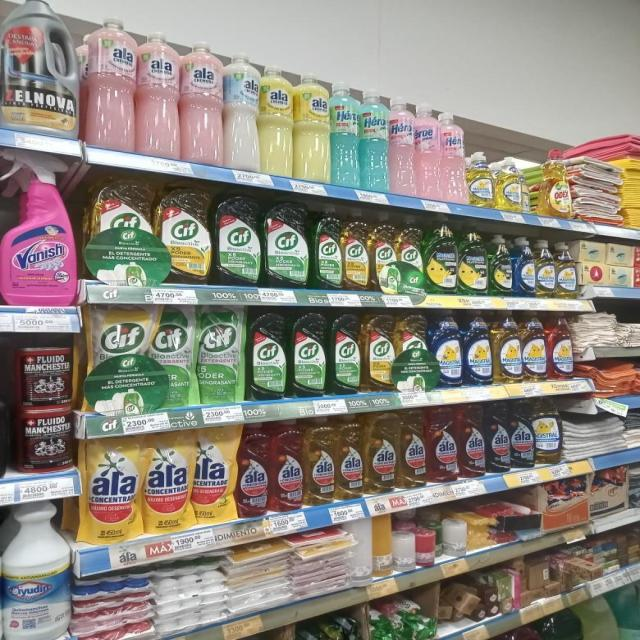ala_conc_amarillo: (304, 415, 335, 506), (365, 410, 397, 494), (336, 412, 364, 500), (398, 408, 426, 489)
ala_conc_azul: (486, 401, 510, 474), (510, 399, 534, 469)
ala_conc_rojo: (236, 420, 268, 518), (270, 418, 303, 512), (427, 404, 458, 484), (458, 402, 485, 479)
ala_crem_amarillo: (294, 72, 330, 182), (260, 66, 292, 175)
ala_crem_blanco: (224, 49, 258, 172)
ala_crem_rosado: (136, 31, 179, 159), (181, 39, 223, 164)
ala_sachet_amarillo: (82, 432, 142, 544), (144, 428, 191, 534), (193, 422, 235, 524)
cif_conc_bot_amarilla: (82, 176, 157, 285), (158, 182, 211, 284), (395, 311, 430, 391), (362, 311, 394, 393), (342, 208, 369, 290), (370, 212, 396, 292), (398, 214, 423, 294)
cif_conc_botella_verde: (214, 192, 261, 287), (264, 199, 309, 289), (247, 310, 287, 400), (289, 311, 326, 398), (328, 312, 361, 396), (311, 204, 341, 290)
cif_conc_sachet_verde: (197, 305, 244, 404)
magistral_con_amarillo: (492, 311, 520, 384), (522, 311, 546, 382), (495, 156, 524, 211), (467, 151, 494, 207), (556, 241, 578, 299), (535, 239, 555, 298)
magistral_con_azul: (433, 312, 463, 388), (464, 312, 492, 386), (514, 236, 535, 298)
magistral_con_rojo: (548, 312, 572, 380)
